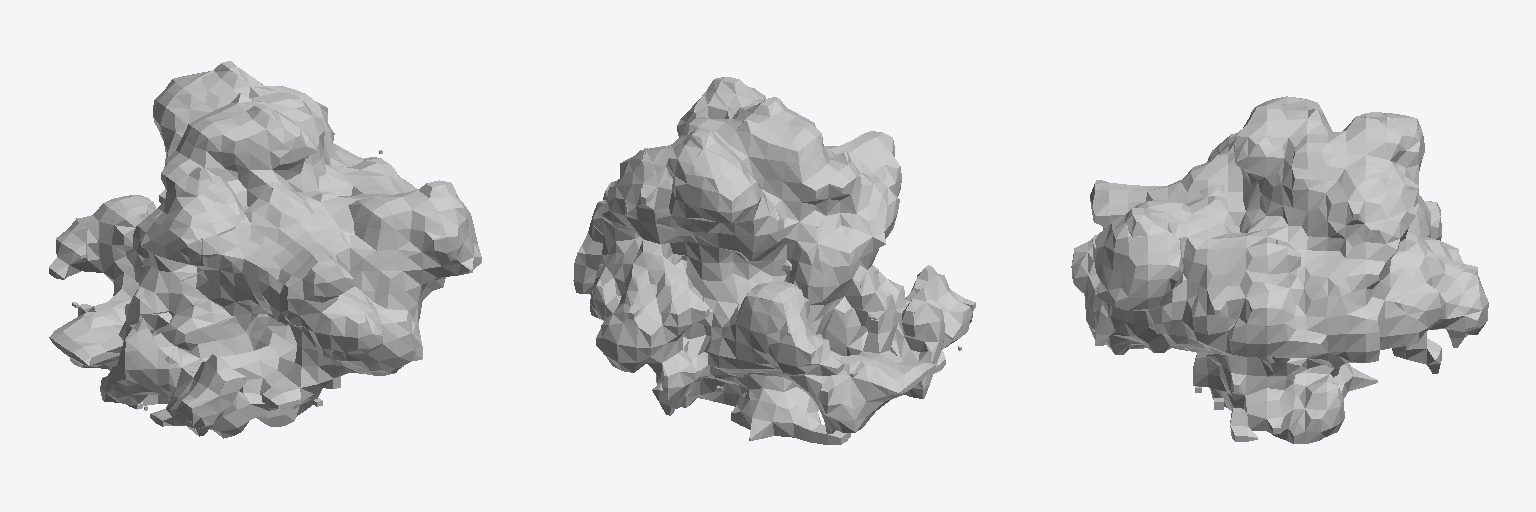
The model's file is cloud2.obj.
The picture shows the model from 3 angles: view 1: azimuth 30°, elevation 25°; view 2: azimuth 150°, elevation 25°; view 3: azimuth 270°, elevation 25°; orthographic projection.
Parts seen in each view (by area): view 1: 1055; view 2: 1055; view 3: 1055.
Boxes of the visible parts, x1,y1,x2,y2 form: 1055: [49, 61, 481, 438]; 1055: [573, 77, 975, 444]; 1055: [1071, 96, 1488, 443].
Bounding box in the file's own units: 26.59 × 22.73 × 28.28.